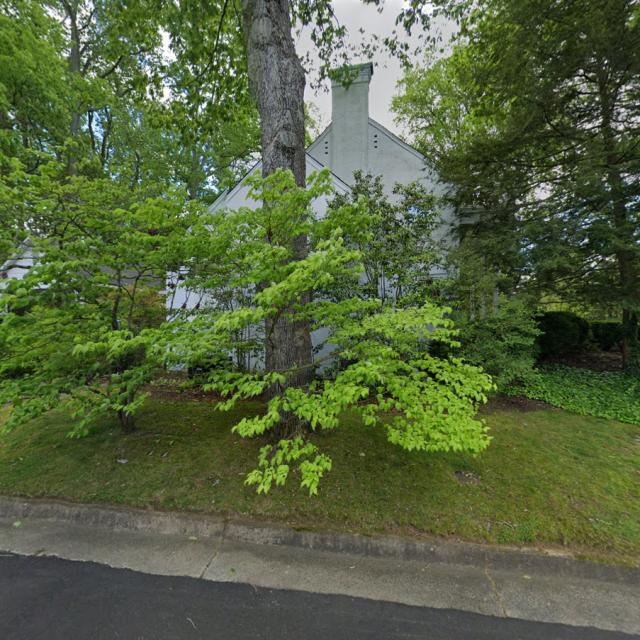House: (0, 61, 522, 378)
